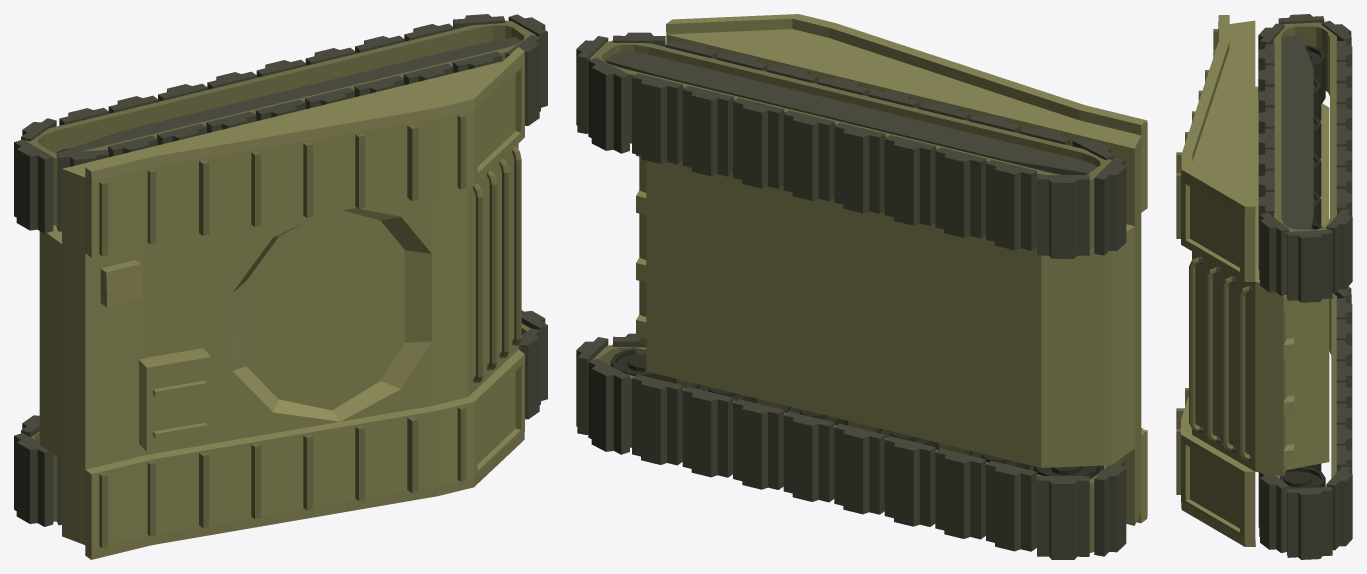
Rendered from Tank_3_Base.glb.
The picture shows the model from 3 angles, left to right: view 1: azimuth 30°, elevation 25°; view 2: azimuth 150°, elevation 25°; view 3: azimuth 270°, elevation 25°; orthographic projection. The views are drawn at different scales.
Parts seen in each view (by area): view 1: Tank_body_Cube.009, TrackMesh.L_Cube.051, TrackMesh.R_Cube.000; view 2: Tank_body_Cube.009, TrackMesh.L_Cube.051, TrackMesh.R_Cube.000; view 3: Tank_body_Cube.009, TrackMesh.L_Cube.051, TrackMesh.R_Cube.000.
Boxes of the visible parts, x1,y1,x2,y2 form: Tank_body_Cube.009: (25,20,536,559); TrackMesh.L_Cube.051: (14,14,547,233); TrackMesh.R_Cube.000: (14,310,547,526); Tank_body_Cube.009: (589,14,1147,552); TrackMesh.L_Cube.051: (576,32,1126,258); TrackMesh.R_Cube.000: (576,333,1126,559); Tank_body_Cube.009: (1176,15,1336,551); TrackMesh.L_Cube.051: (1258,14,1352,302); TrackMesh.R_Cube.000: (1258,286,1352,559).
Bounding box in the file's own units: 14.87 × 10.54 × 4.96.
